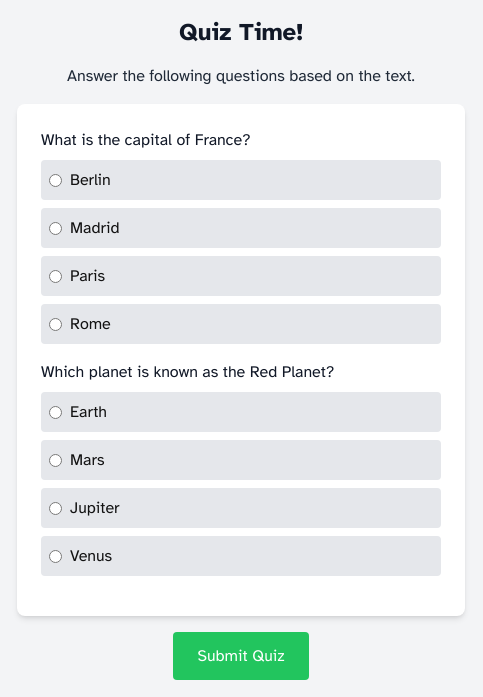
Test: Quiz Component › submits quiz and locks answers
expect the heading "Quiz Time!" is shown: met, box 179,16 -> 303,48
Click the radio button labelled "Paris" at (56, 276), box 49,270 -> 62,282
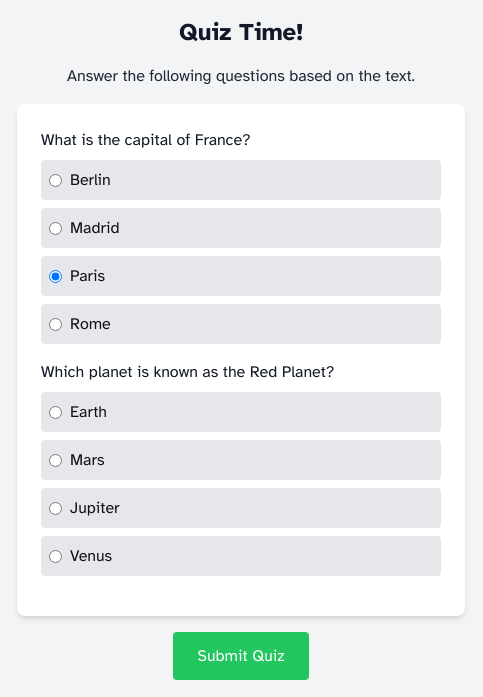
Click the radio button labelled "Mars" at (56, 460), box 49,454 -> 62,466
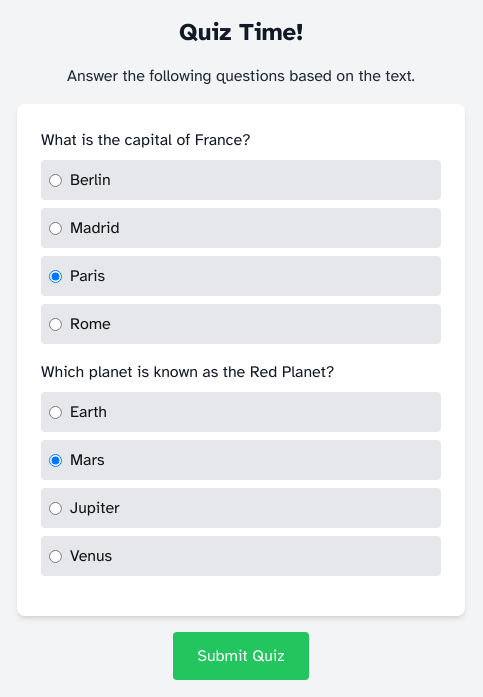
Click the button "Submit Quiz" at (241, 656), box 173,632 -> 309,680
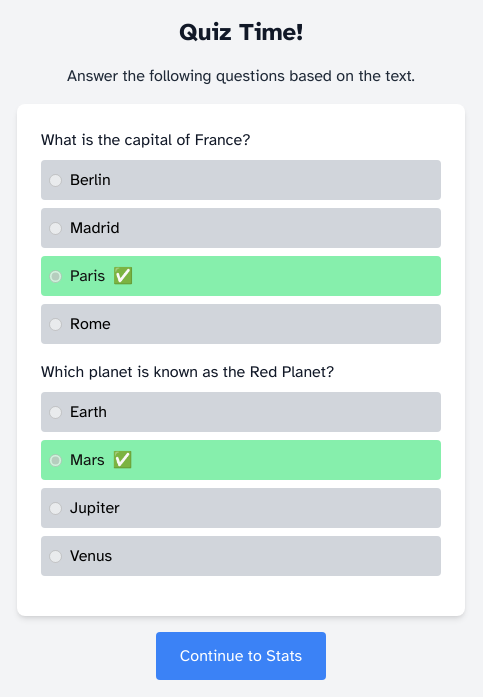
expect the text "✅" next to "Paris" is shown: met, box 113,266 -> 133,286
